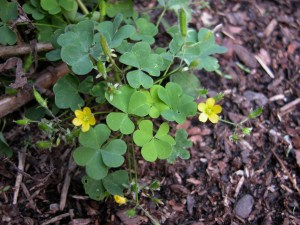oxalis: (39, 19, 216, 193)
